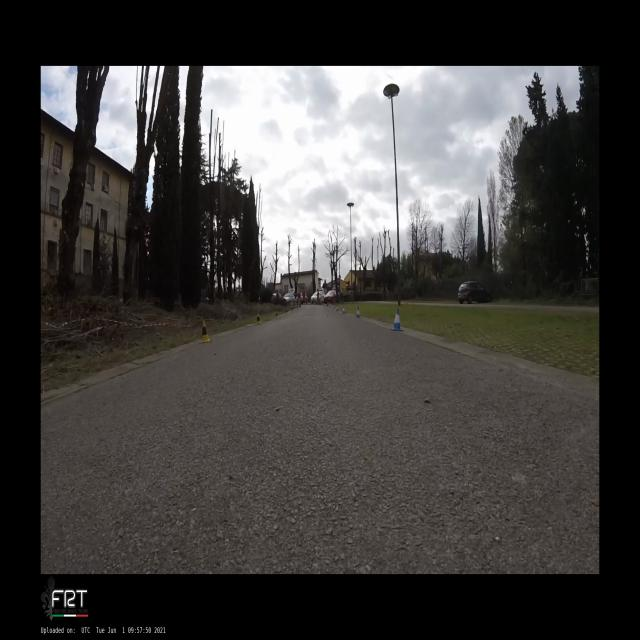blue_cone: (391, 308, 404, 331), (356, 306, 360, 318), (342, 306, 345, 314), (336, 305, 338, 311)
yellow_cone: (199, 320, 212, 343), (256, 313, 260, 324), (276, 312, 278, 318)
